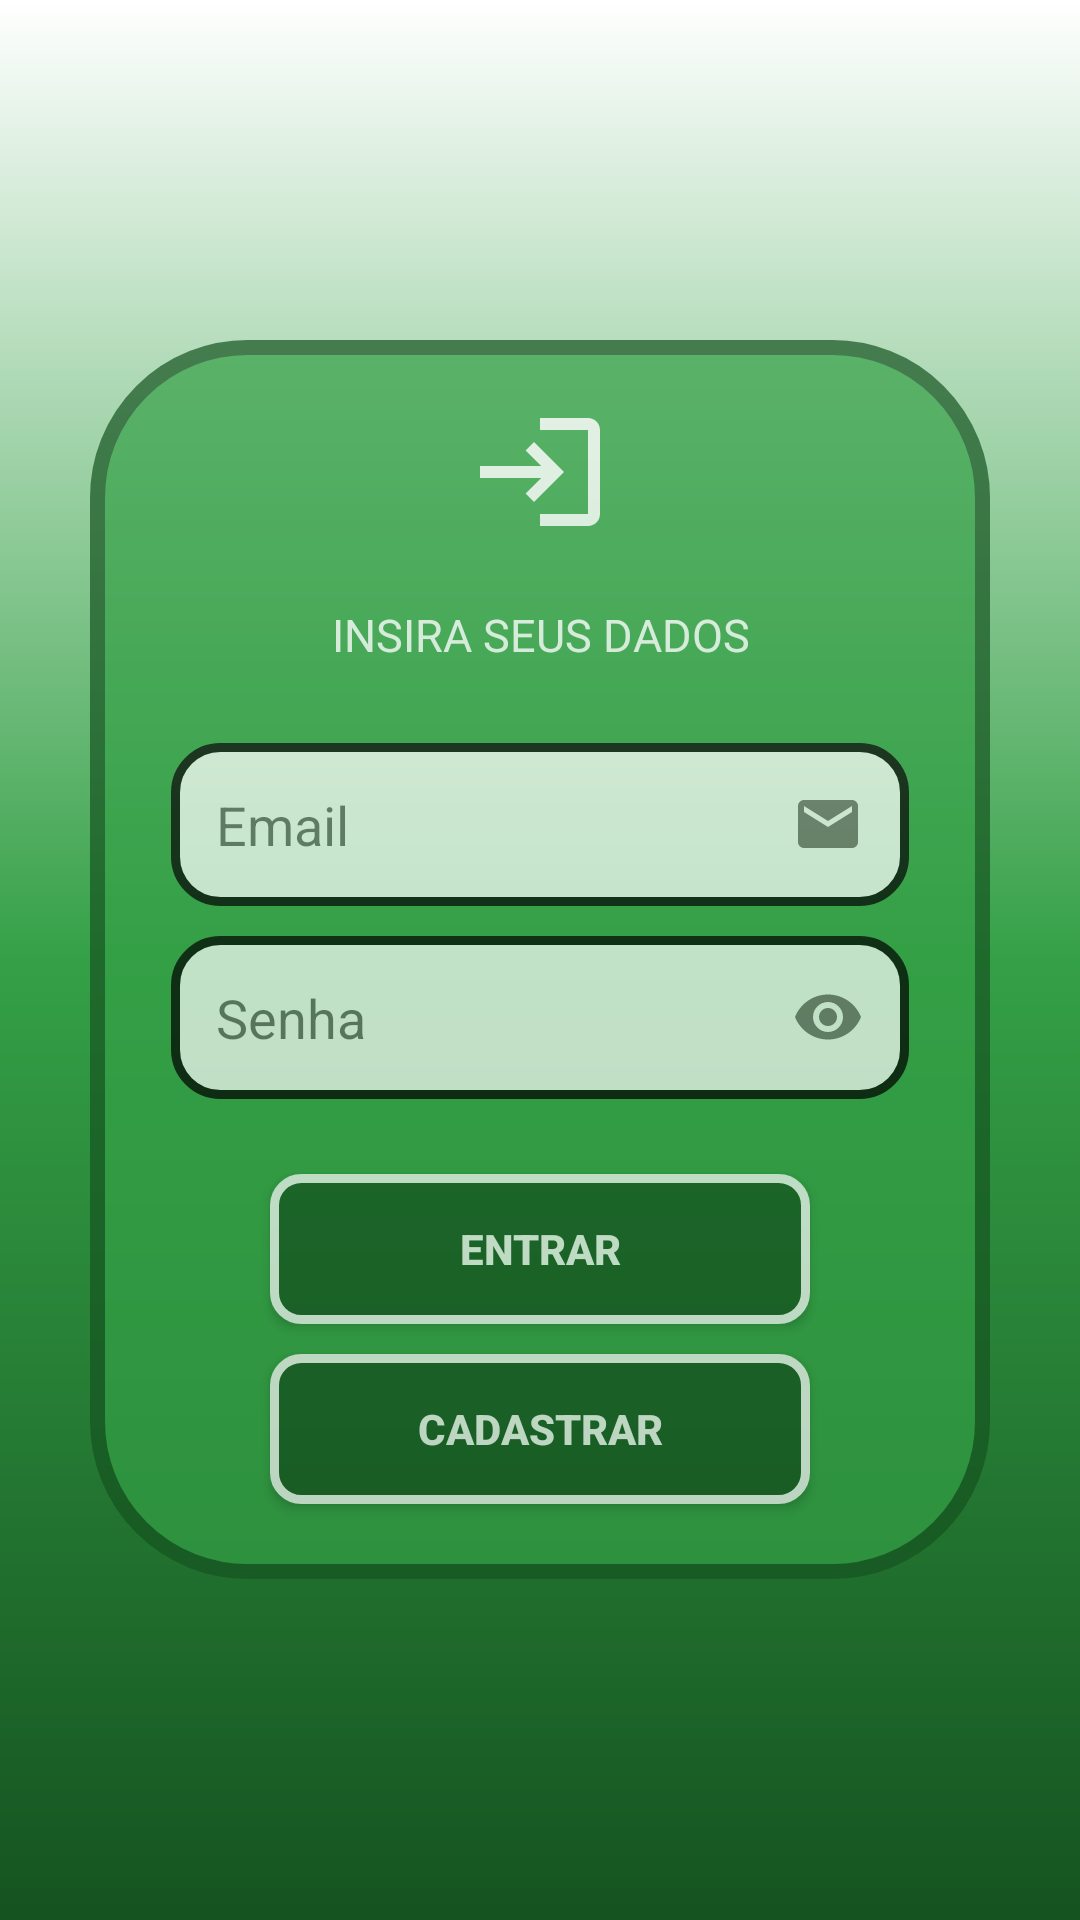

Locate icon controls on the screen. Image size 1080 × 1920, boxes as [x1=x1, y1=y1, x2=x2, y2=y2].
login: [x1=480, y1=418, x2=600, y2=526]
